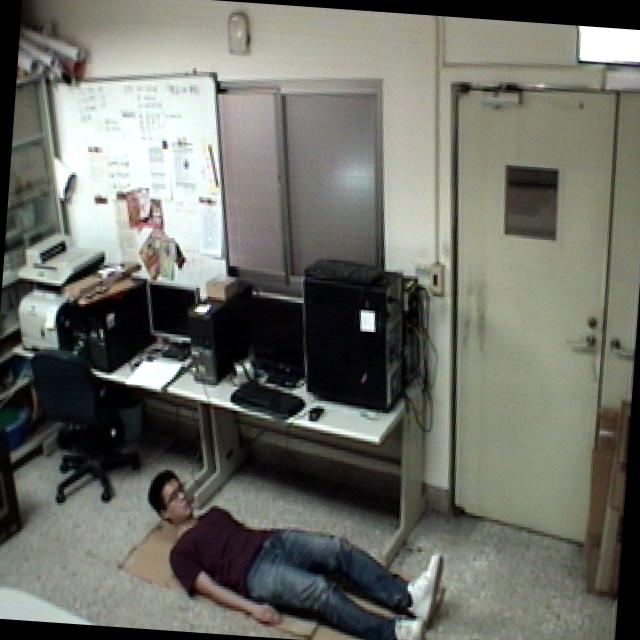lie: (126, 457, 457, 640)
